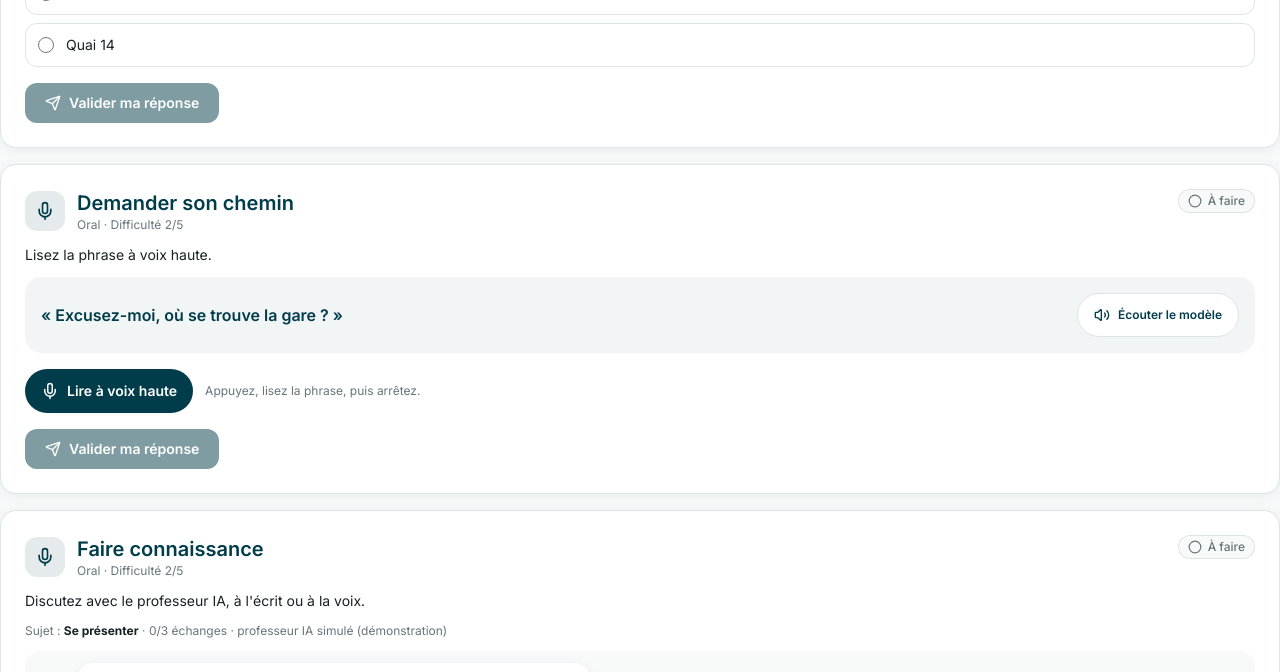
Page d'une leçon › transcrit la prononciation avec la reconnaissance vocale puis la note
The width and height of the screenshot is (1280, 672).
(page scrolled)
Click the button "Lire à voix haute".
click(109, 391)  # box [25, 369, 193, 413]
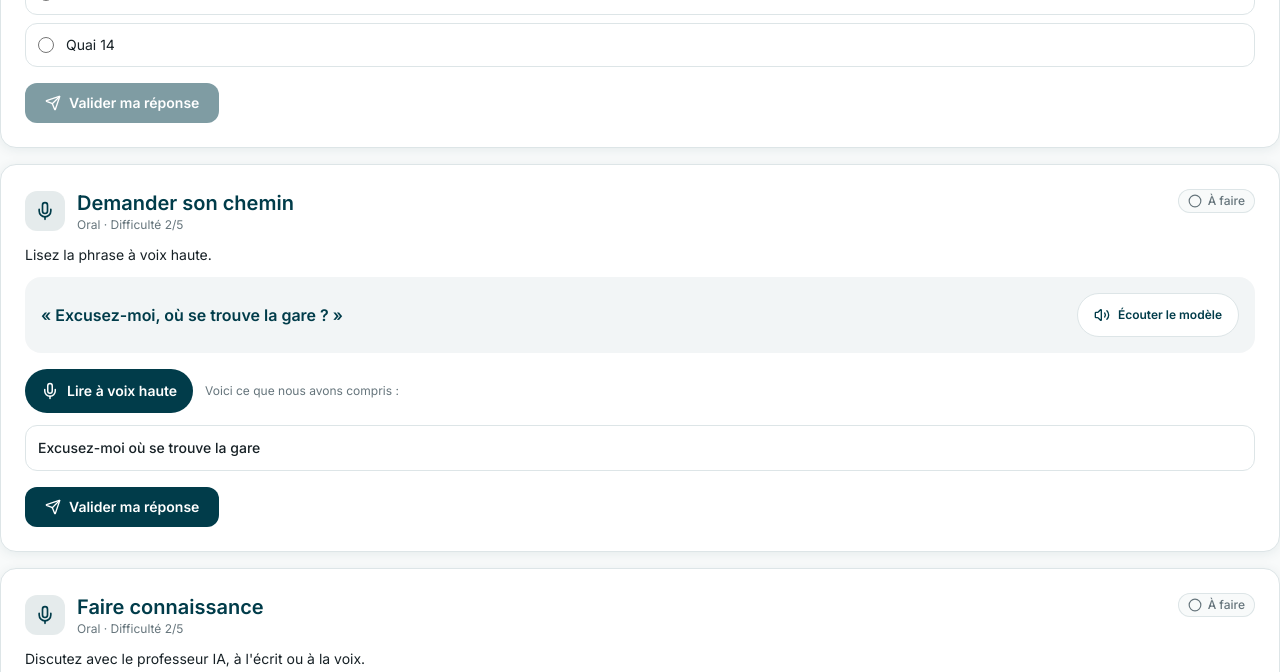
Expected: the button with test id "transcription" reads "Excusez-moi où se trouve la gare", [38, 439, 260, 456]
Click the button "Valider ma réponse" below "Excusez-moi où se trouve la gare".
click(122, 507)  # box [25, 487, 219, 527]
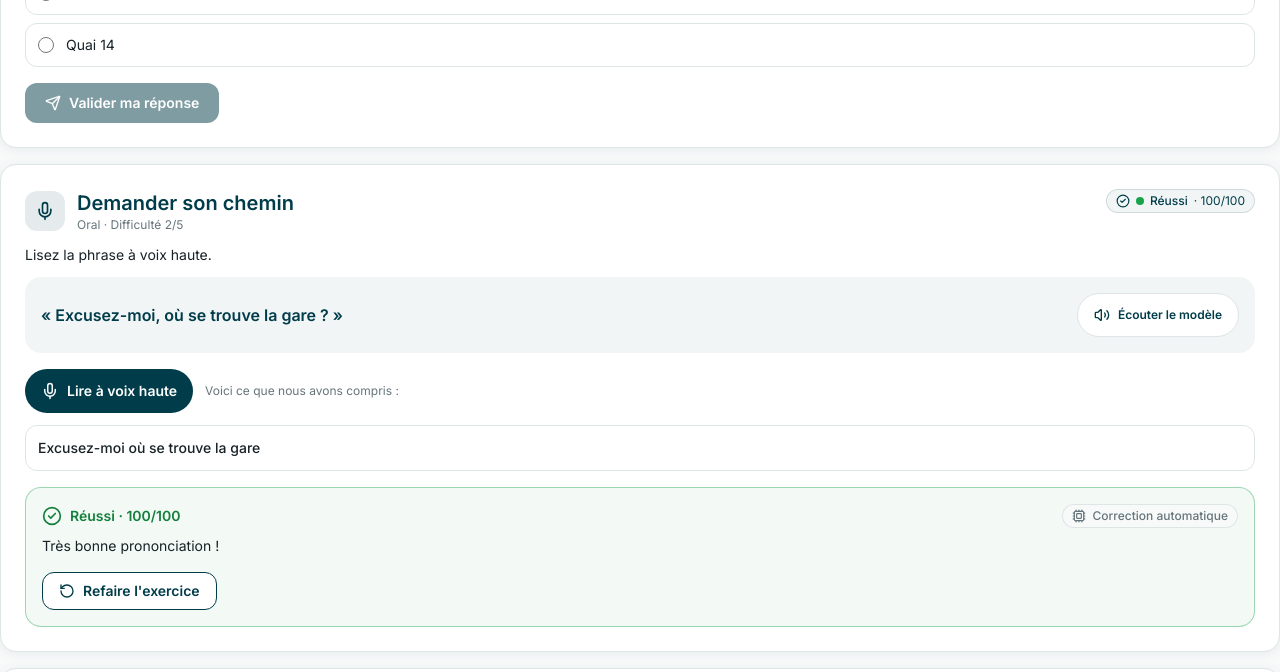
Expected: the text "Très bonne prononciation !" is shown, [42, 537, 219, 554]
